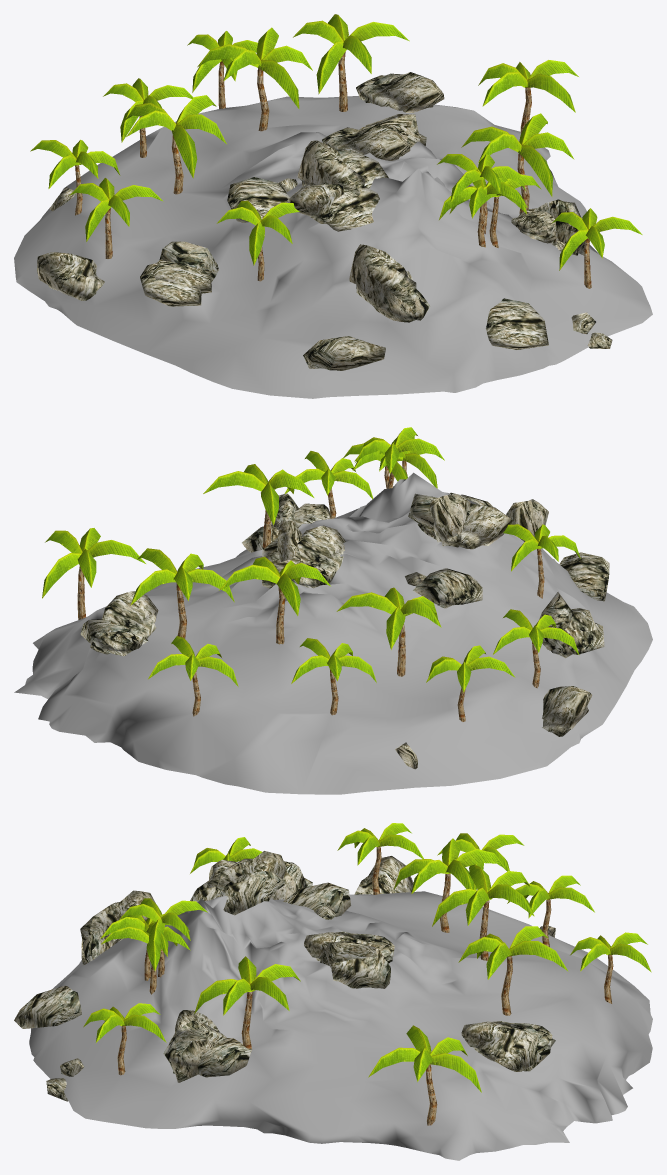
Rendered from island_01.fbx.
The picture shows the model from 3 angles, top to bottom: view 1: azimuth 30°, elevation 25°; view 2: azimuth 150°, elevation 25°; view 3: azimuth 270°, elevation 25°; orthographic projection. The views are drawn at different scales.
Parts seen in each view (by area): view 1: island_01; view 2: island_01; view 3: island_01.
Part boxes in pixels (box(x1,y1,x2,y2)): island_01: box(14, 14, 652, 398); island_01: box(14, 427, 652, 794); island_01: box(14, 823, 652, 1160).
Bounding box in the file's own units: 29.78 × 8.93 × 31.
